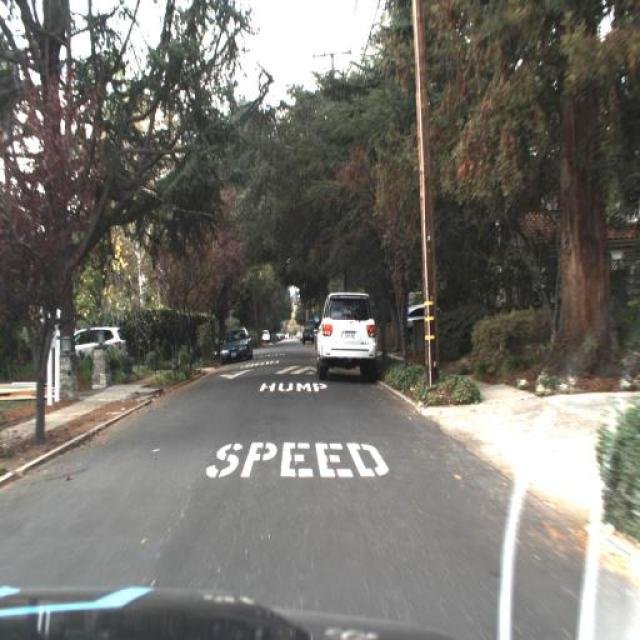car: (311, 290, 378, 378), (68, 322, 133, 372), (402, 296, 446, 326), (218, 329, 253, 361), (300, 321, 316, 342)
